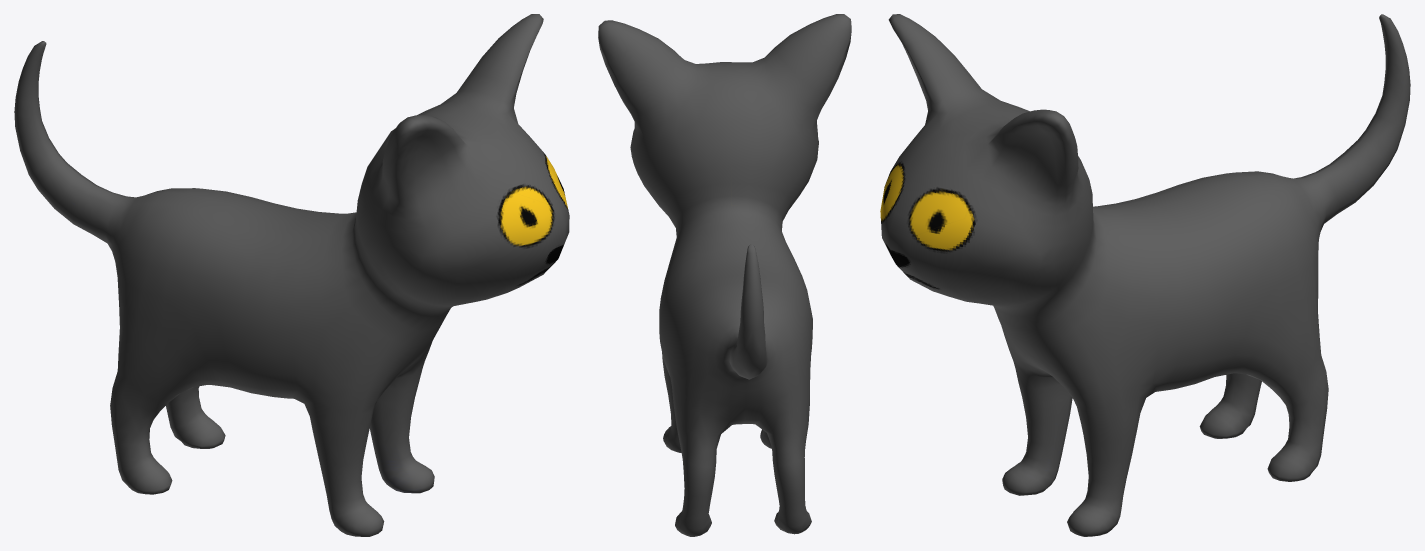
The model's file is gray_cat_toy.glb.
3 renders of one model, left to right at view 1: azimuth 30°, elevation 25°; view 2: azimuth 150°, elevation 25°; view 3: azimuth 270°, elevation 25°, orthographic. The views are drawn at different scales.
Parts seen in each view (by area): view 1: Object_5; view 2: Object_5; view 3: Object_5.
Part boxes in pixels (x1,y1,x2,y2): Object_5: (14, 14, 569, 536); Object_5: (598, 14, 851, 536); Object_5: (880, 14, 1410, 536).
Bounding box in the file's own units: 0.1669 × 0.2047 × 0.2095.
Materials: 1 (1 with a texture image).
